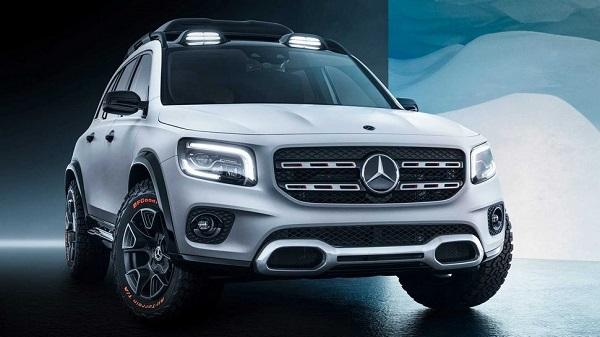pickup: (64, 19, 512, 318)
